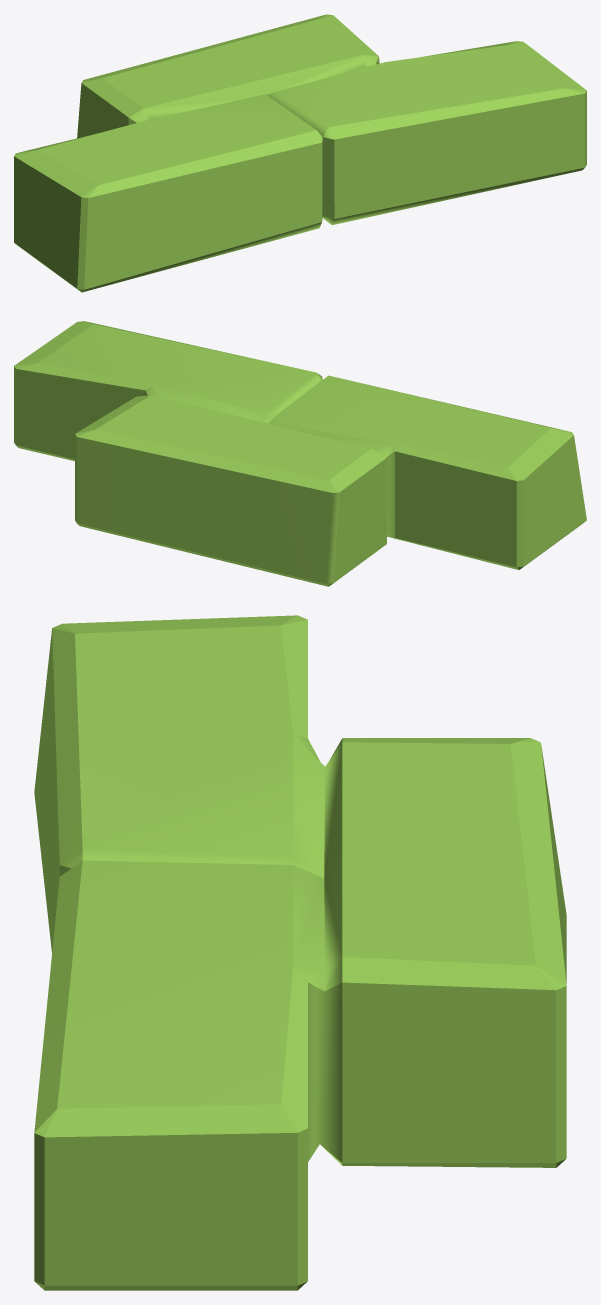
The model's file is mesh_Brick_Triple_v2.fbx.
The picture shows the model from 3 angles, top to bottom: view 1: azimuth 30°, elevation 25°; view 2: azimuth 150°, elevation 25°; view 3: azimuth 270°, elevation 25°; orthographic projection. The views are drawn at different scales.
Visible parts, largest first — view 1: mesh_Brick_Triple_v2_0; view 2: mesh_Brick_Triple_v2_0; view 3: mesh_Brick_Triple_v2_0.
Boxes of the visible parts, left/top/right/bottom form: mesh_Brick_Triple_v2_0: left=14, top=14, right=586, bottom=292; mesh_Brick_Triple_v2_0: left=14, top=321, right=586, bottom=586; mesh_Brick_Triple_v2_0: left=34, top=615, right=566, bottom=1290.
Bounding box in the file's own units: 108 × 19.46 × 48.72.
